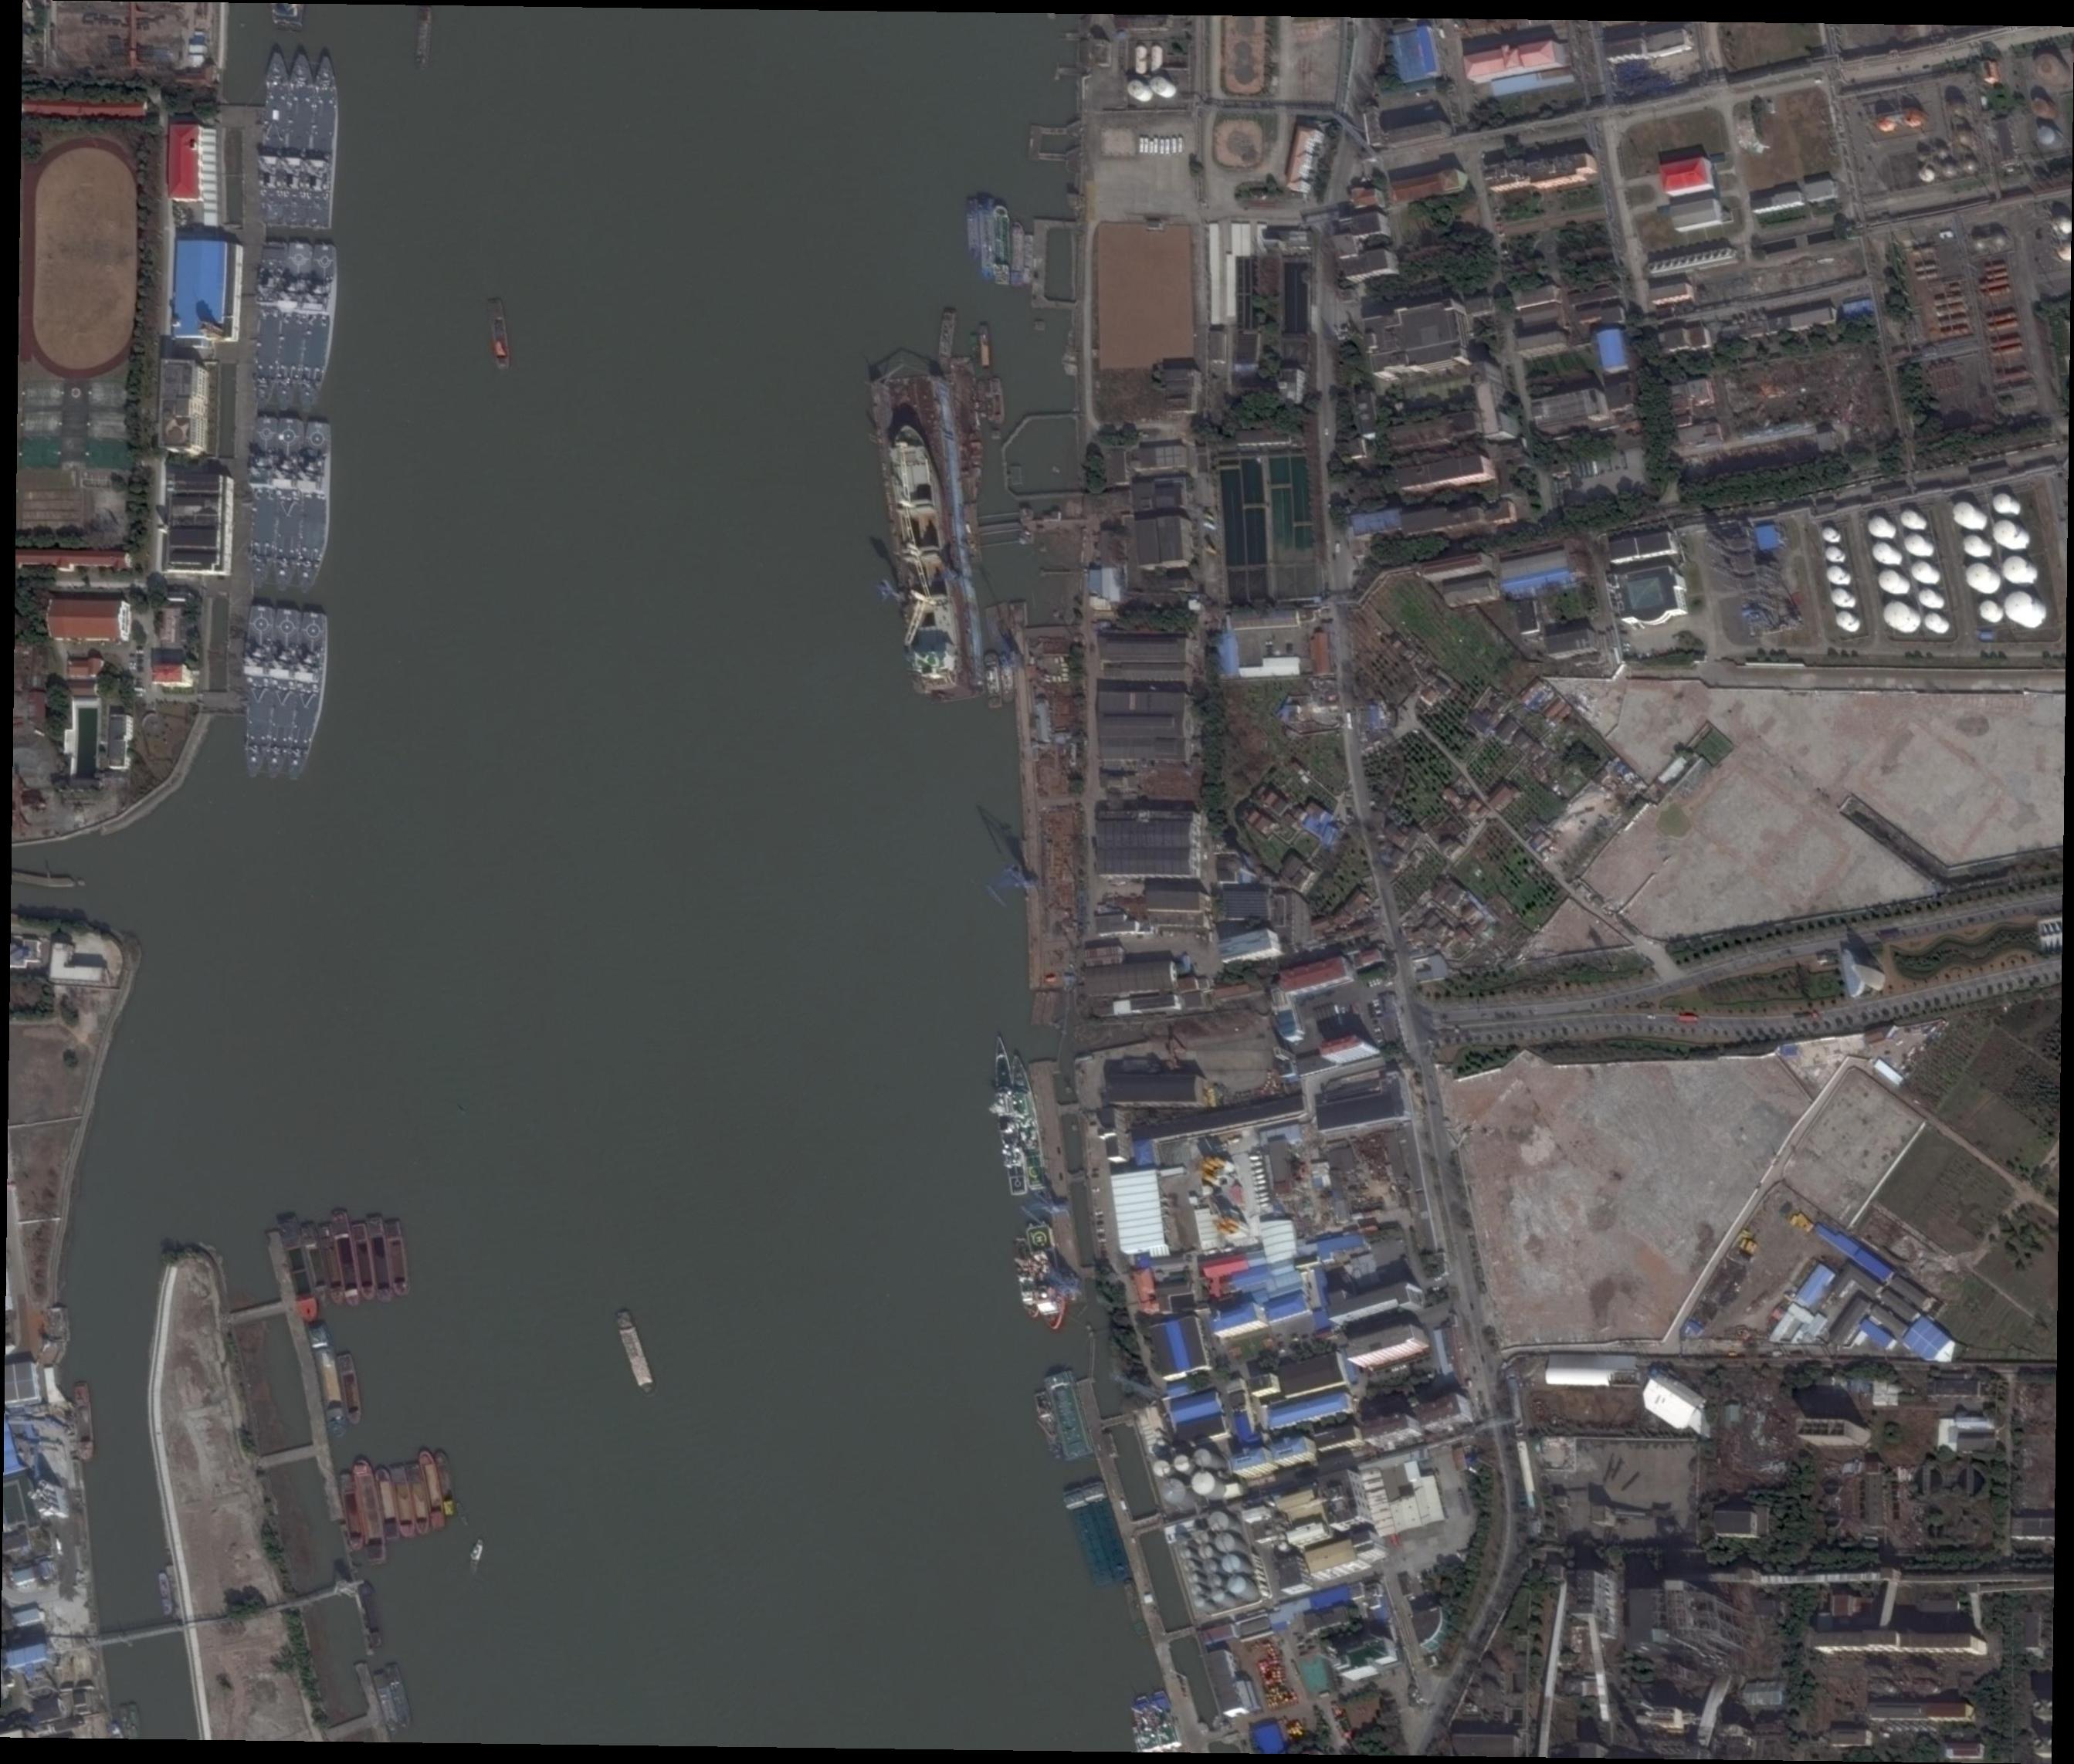ship: (887, 423, 964, 693), (296, 245, 343, 411), (287, 612, 333, 780), (296, 422, 338, 593), (989, 1034, 1031, 1197), (275, 243, 313, 413), (242, 605, 277, 780), (252, 243, 289, 409), (271, 418, 306, 590), (266, 609, 301, 777), (308, 54, 341, 228), (1082, 1479, 1134, 1584), (259, 51, 291, 226), (247, 416, 278, 588), (1062, 1487, 1115, 1587), (1012, 1050, 1048, 1188), (1024, 1221, 1069, 1332), (287, 52, 315, 228), (277, 1216, 322, 1323), (1043, 1370, 1096, 1461), (352, 1458, 389, 1566), (614, 1309, 658, 1396), (329, 1207, 364, 1309), (315, 1347, 348, 1438), (301, 1221, 333, 1309), (1033, 1389, 1068, 1463), (317, 1223, 347, 1307), (366, 1216, 394, 1305), (1012, 1239, 1041, 1318), (418, 1449, 446, 1531), (338, 1472, 366, 1552), (383, 1220, 411, 1298), (383, 1661, 415, 1729), (352, 1221, 378, 1302), (375, 1465, 401, 1545), (390, 1465, 418, 1540), (336, 1353, 364, 1426), (1129, 1694, 1164, 1752), (1150, 1689, 1181, 1752), (487, 297, 513, 373), (406, 1463, 432, 1536), (72, 1382, 95, 1463), (1122, 1580, 1152, 1640), (434, 1449, 459, 1519), (373, 1673, 401, 1733), (992, 203, 1012, 285), (936, 308, 957, 373), (984, 649, 1005, 707), (980, 196, 994, 278), (415, 7, 434, 66), (966, 198, 982, 259), (1010, 220, 1024, 285), (998, 653, 1015, 703), (158, 1573, 173, 1617), (991, 378, 1005, 422), (978, 324, 991, 367), (1024, 233, 1034, 283), (130, 1704, 142, 1739), (121, 1704, 133, 1739), (984, 381, 994, 420), (469, 1538, 487, 1561), (978, 381, 987, 420)
